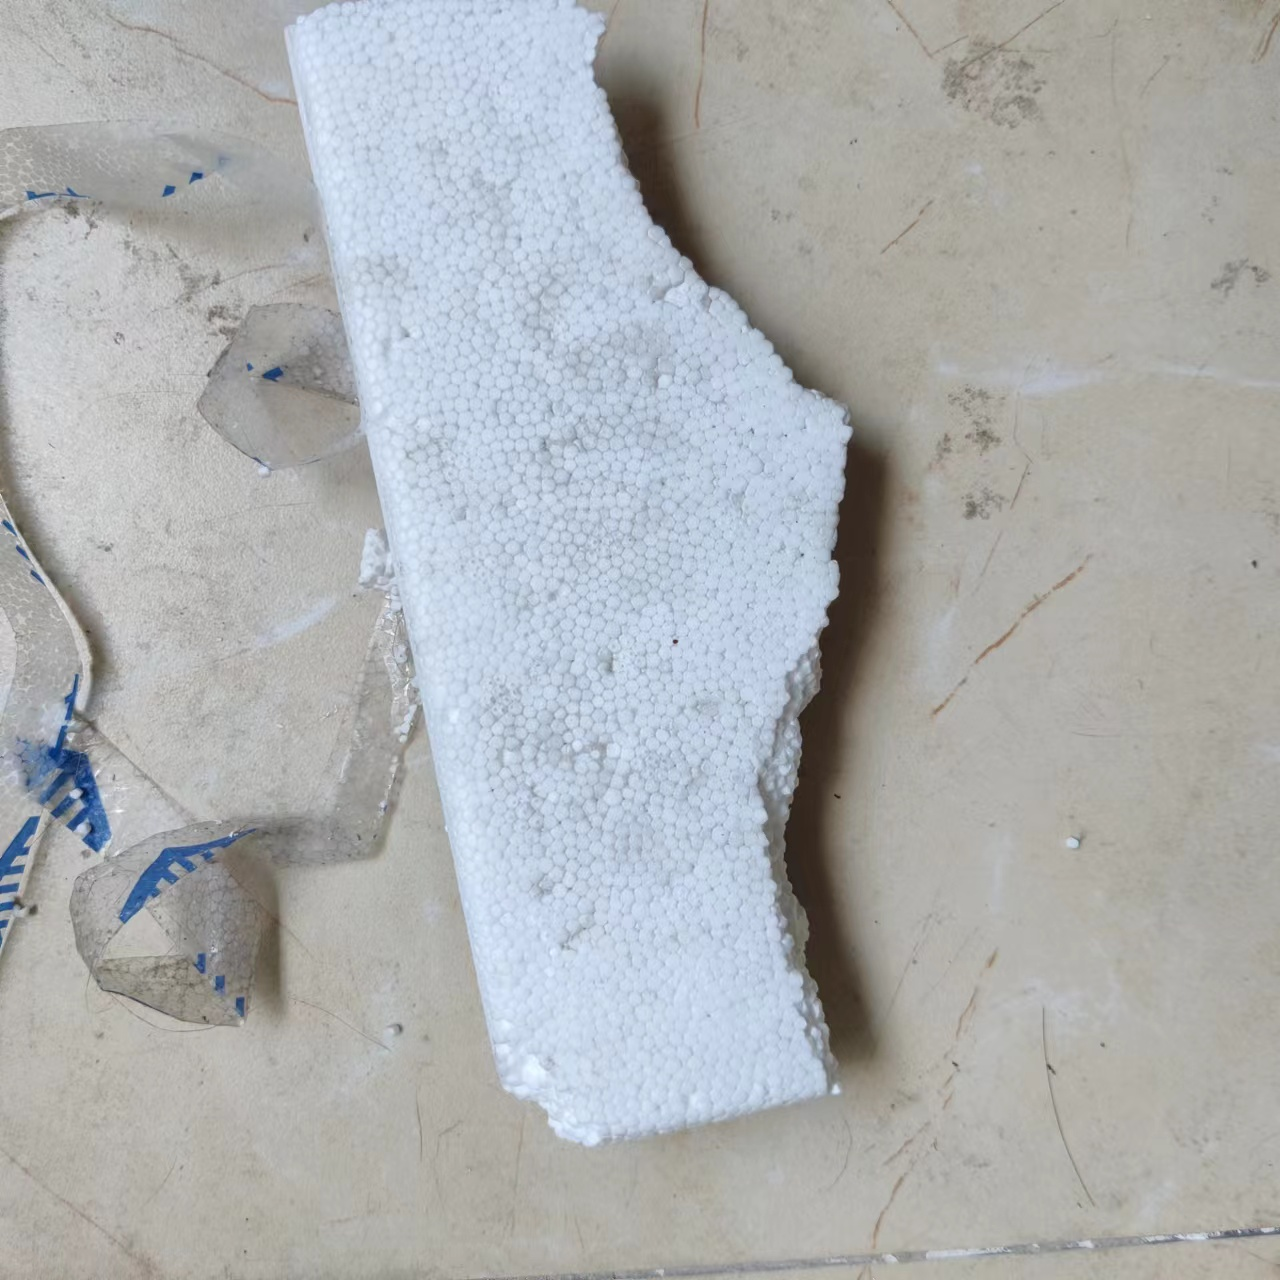5/可回收垃圾/泡沫: (284, 1, 855, 1148)
